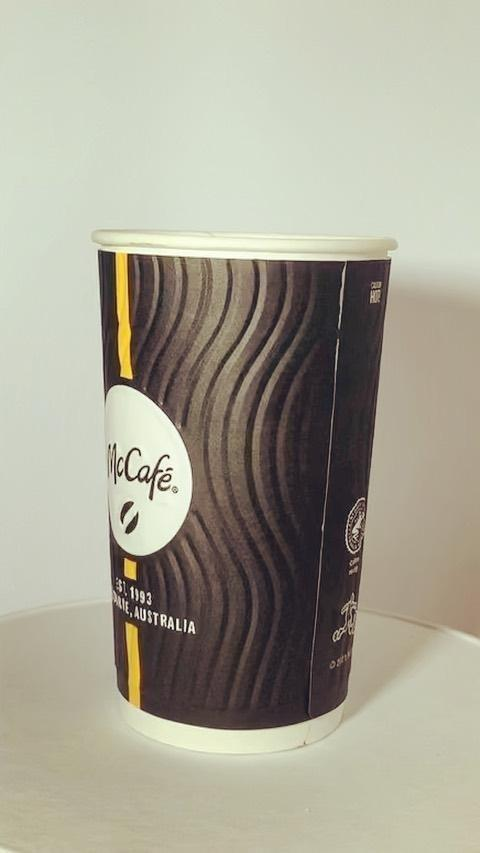cup-disposable: (85, 214, 408, 761)
